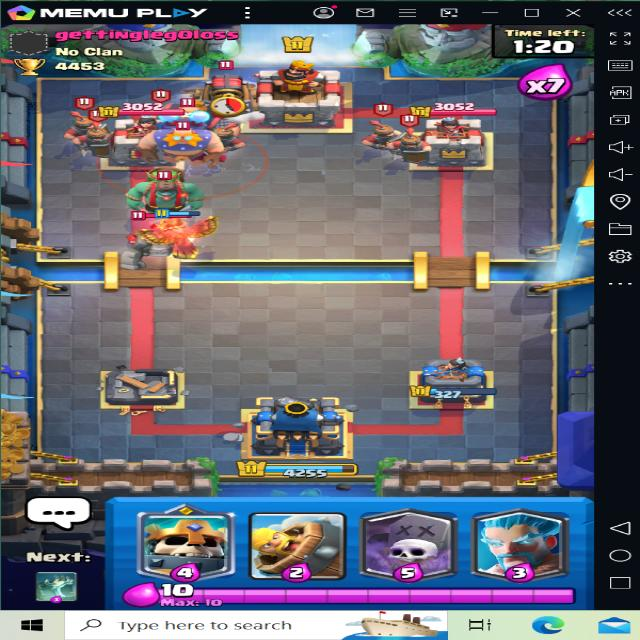electro-giant: (137, 106, 238, 167)
goblin-giant: (131, 161, 208, 218)
golem: (121, 206, 207, 258)
royal-giant: (154, 88, 229, 144)
royal-recruits: (351, 103, 410, 156), (54, 99, 106, 153), (204, 111, 250, 159), (79, 114, 119, 164), (390, 117, 430, 164)
sparky: (191, 58, 261, 114)
